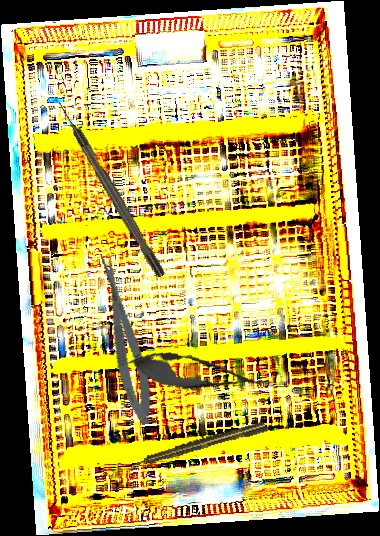Handpiece: (127, 419, 270, 472)
Hook Surgical: (55, 98, 166, 280)
Micro Scissor: (93, 249, 159, 428), (125, 344, 278, 403)
